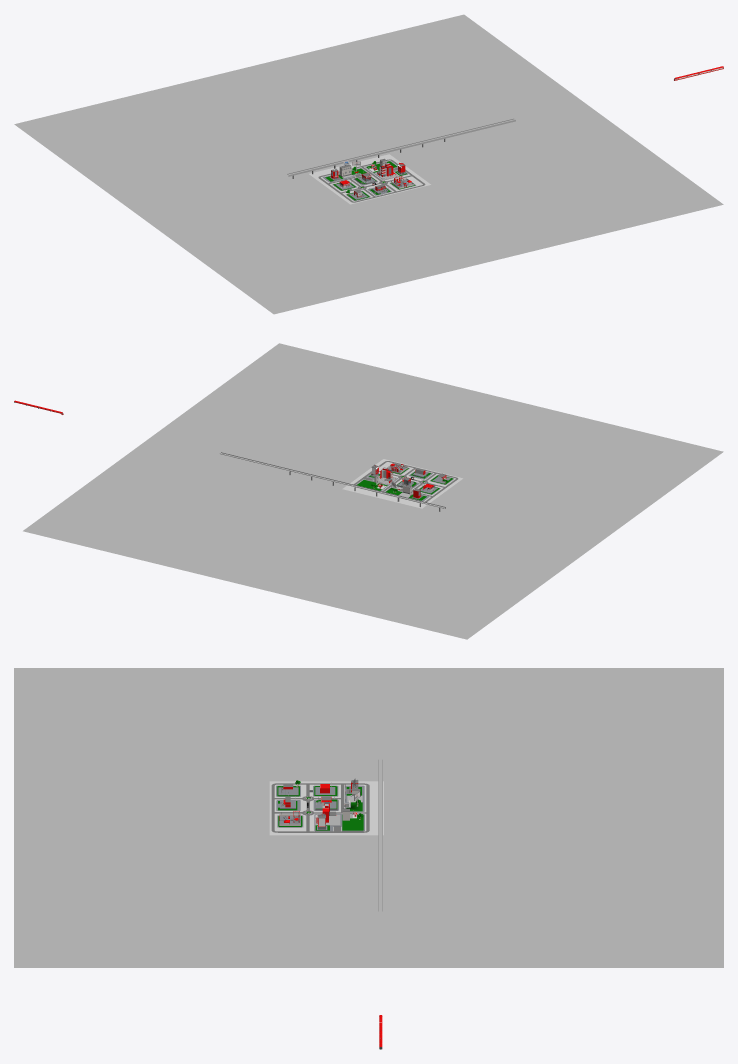
File: all_services#2.glb
3 renders of one model, top to bottom at view 1: azimuth 30°, elevation 25°; view 2: azimuth 150°, elevation 25°; view 3: azimuth 270°, elevation 25°, orthographic. The views are drawn at different scales.
Parts seen in each view (by area): view 1: Ground1, train_track, road; view 2: Ground1, train_track, road; view 3: Ground1, road, train_track.
Boxes of the visible parts, left/top/right/bottom form: Ground1: left=14, top=14, right=723, bottom=314; train_track: left=287, top=118, right=515, bottom=176; road: left=318, top=159, right=425, bottom=202; Ground1: left=23, top=343, right=723, bottom=639; train_track: left=220, top=452, right=445, bottom=508; road: left=353, top=461, right=458, bottom=503; Ground1: left=14, top=668, right=723, bottom=967; road: left=271, top=783, right=369, bottom=832; train_track: left=378, top=759, right=382, bottom=911.
Size of the model in its own units: 156 by 3.71 by 120.
60 materials, 23 textured.
